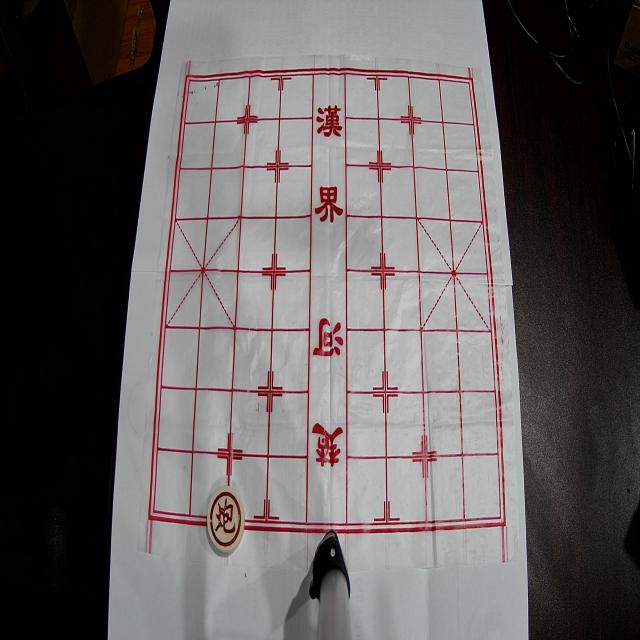red-cannon: (207, 486, 245, 554)
